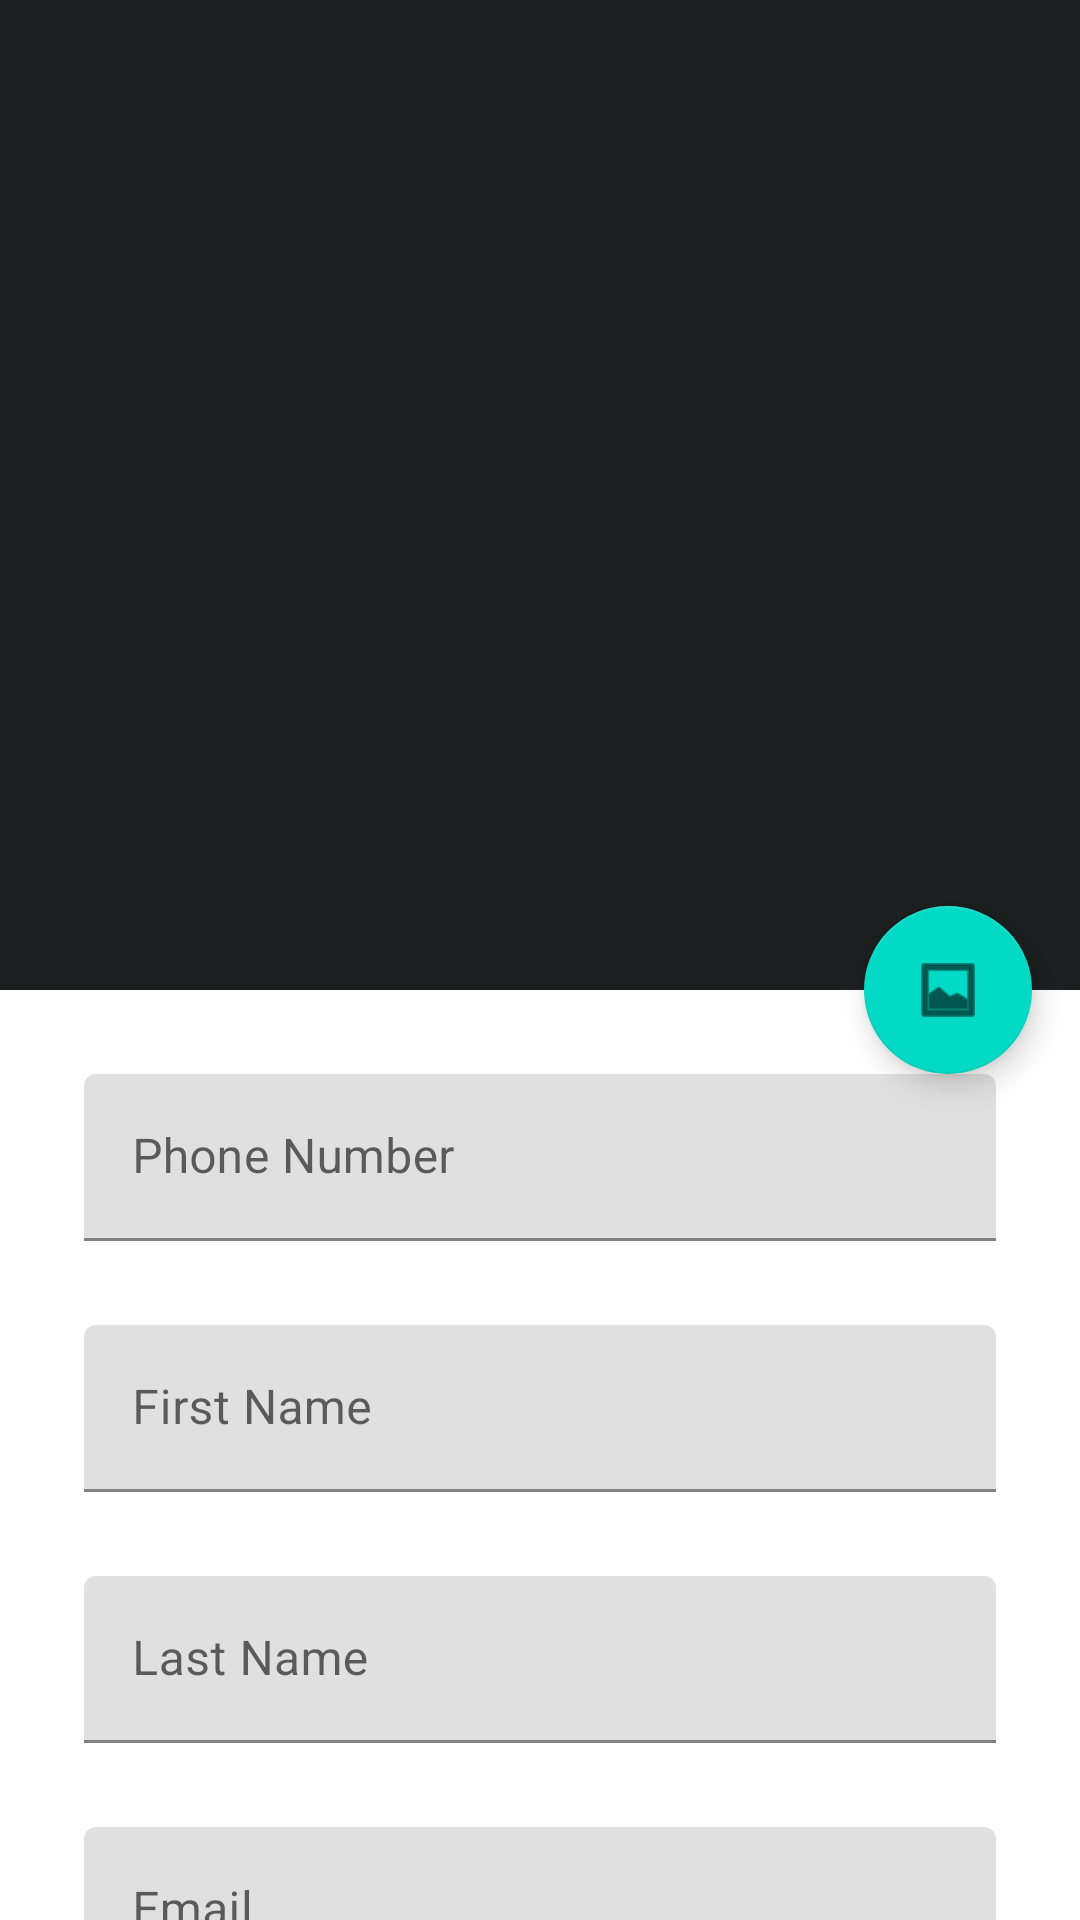

Icons on this 1080x1920 Android screen, each with the point to tap as (x=x, y=y):
gallery: (x=948, y=990)
